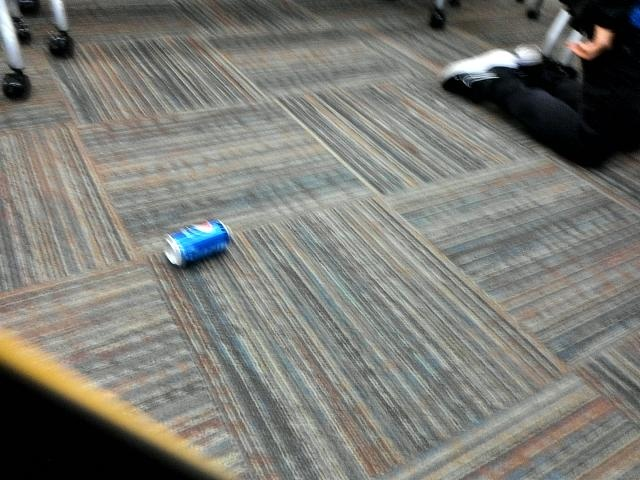can: (159, 215, 237, 265)
